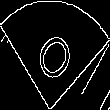O_SW: (30, 22, 80, 88)
